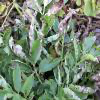Potato leaf early blight: (8, 36, 31, 63), (57, 8, 78, 36), (22, 72, 36, 100), (72, 60, 87, 84), (45, 0, 66, 17), (68, 83, 97, 95), (30, 38, 42, 66), (26, 0, 43, 16), (81, 16, 92, 40), (66, 29, 83, 44), (13, 64, 21, 92), (63, 87, 79, 99), (87, 73, 100, 82)
